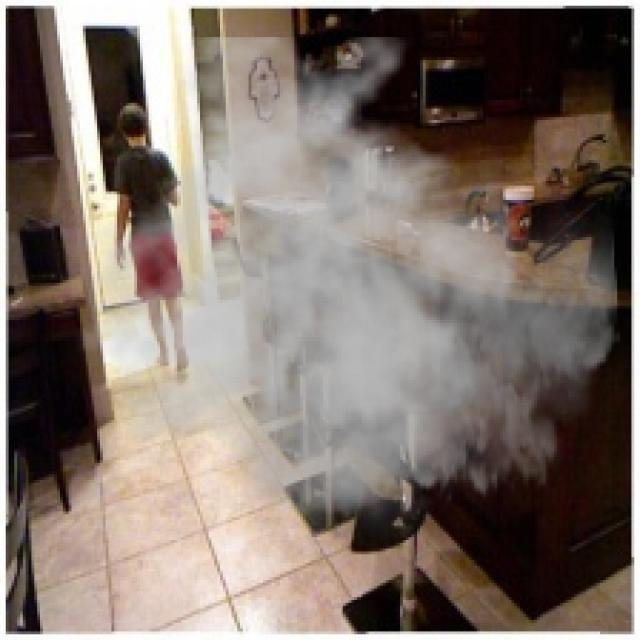Smoke: (74, 37, 620, 566)
